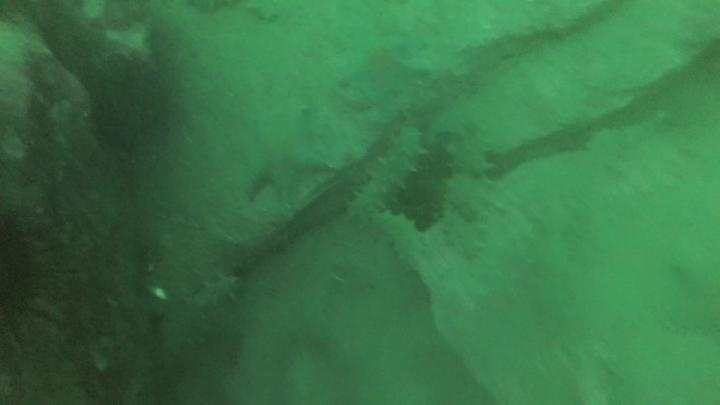echinus: (88, 56, 181, 152), (0, 207, 52, 332)
holothurian: (343, 121, 431, 223), (437, 121, 500, 262), (368, 208, 433, 276), (188, 270, 247, 310)
starfish: (232, 107, 336, 207), (336, 30, 433, 103)
